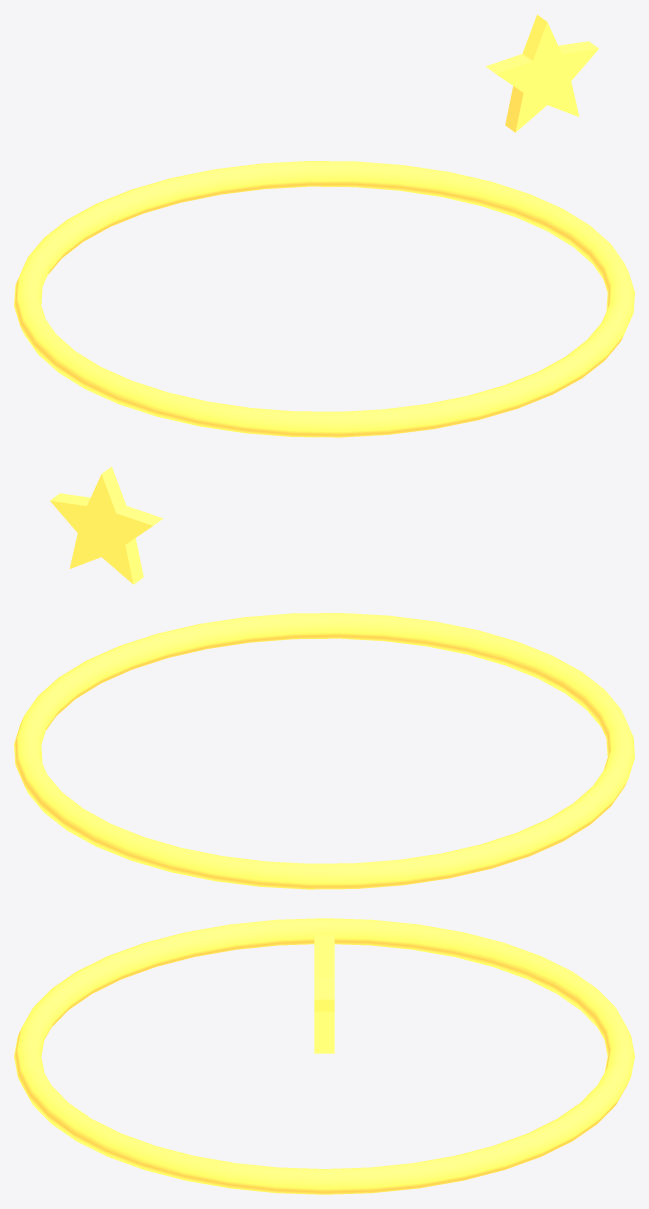
The model's file is Pickup_Ring.glb.
3 views of the same model, one above another, from view 1: azimuth 30°, elevation 25°; view 2: azimuth 150°, elevation 25°; view 3: azimuth 270°, elevation 25° (orthographic).
Visible parts, largest first — view 1: Pickup_Ring; view 2: Pickup_Ring; view 3: Pickup_Ring.
Boxes of the visible parts, x1,y1,x2,y2 form: Pickup_Ring: [14, 14, 634, 437]; Pickup_Ring: [14, 466, 634, 889]; Pickup_Ring: [14, 918, 634, 1194].
Bounding box in the file's own units: 0.5443 × 0.232 × 0.544.
